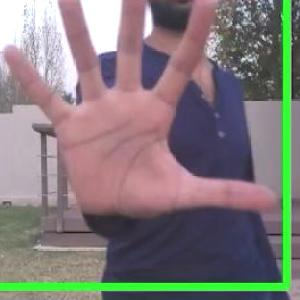follow_hand: (0, 0, 278, 229)
